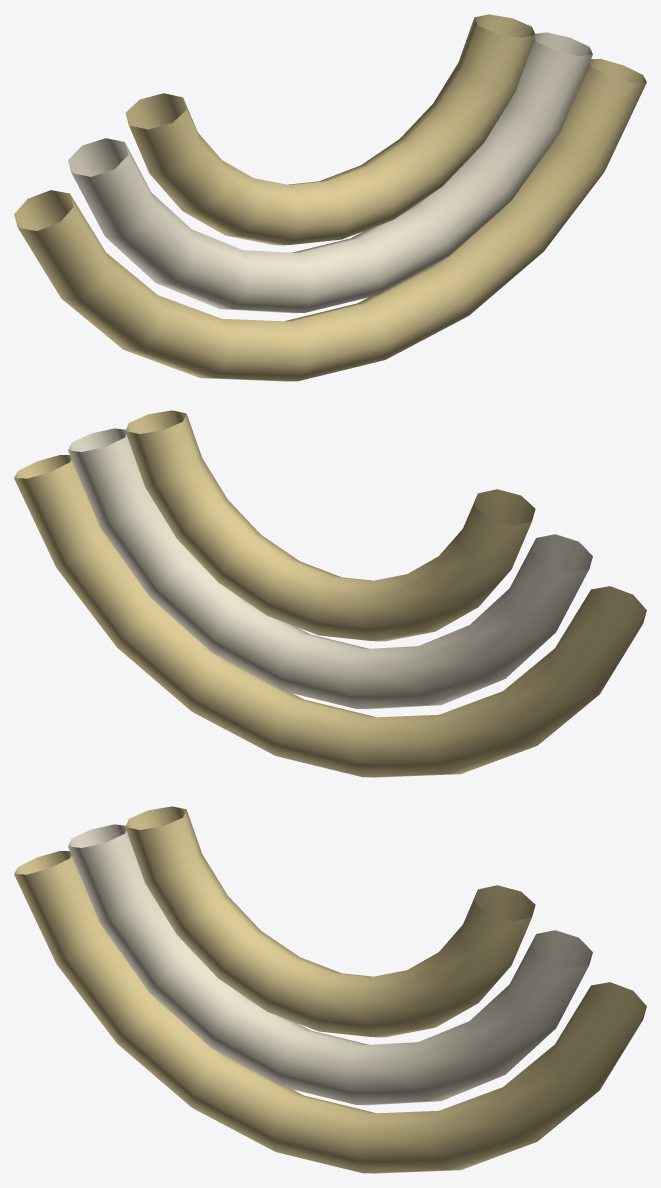
The model's file is khemet.glb.
The picture shows the model from 3 angles, top to bottom: view 1: azimuth 30°, elevation 25°; view 2: azimuth 150°, elevation 25°; view 3: azimuth 330°, elevation 25°; orthographic projection.
Visible parts, largest first — view 1: khemet; view 2: khemet; view 3: khemet.
Part boxes in pixels (x1=…): khemet: x1=14, y1=14, x2=646, y2=381; khemet: x1=14, y1=410, x2=646, y2=777; khemet: x1=14, y1=806, x2=646, y2=1173.
Bounding box in the file's own units: 0.1562 × 0.0738 × 0.014.
